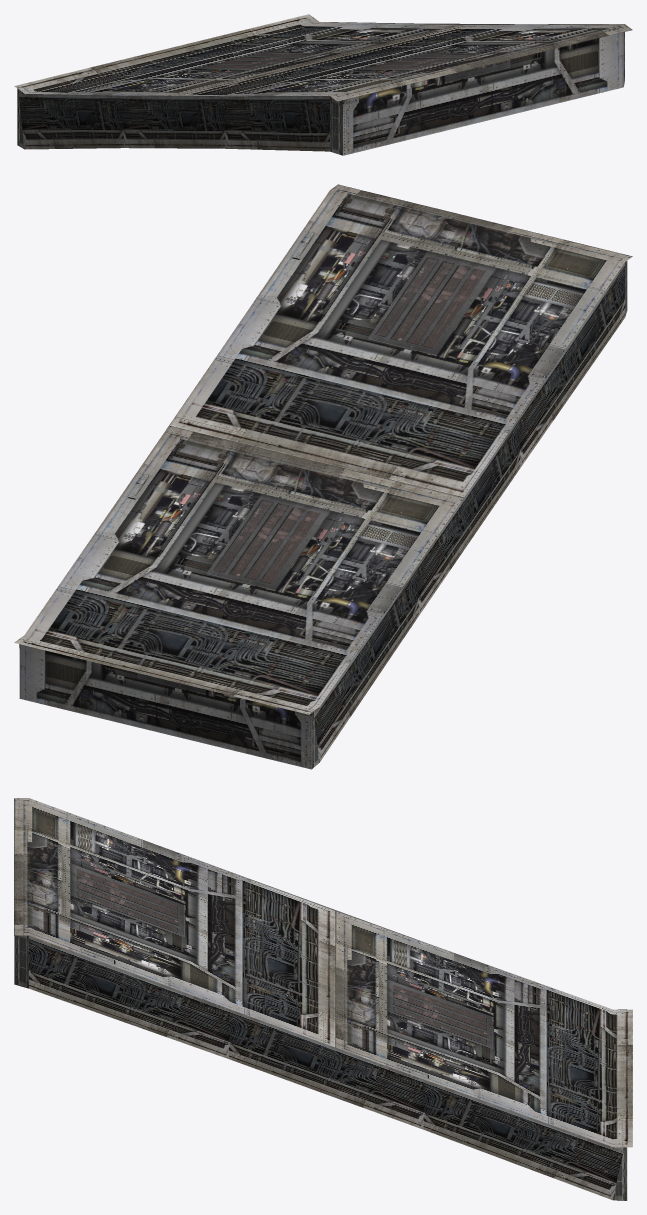
Rendered from ARC_CeilingCorridorA_RAMP_5x10x4.FBX.
The picture shows the model from 3 angles, top to bottom: view 1: azimuth 30°, elevation 25°; view 2: azimuth 150°, elevation 25°; view 3: azimuth 270°, elevation 25°; orthographic projection. The views are drawn at different scales.
Parts seen in each view (by area): view 1: ARC_CeilingCorridorA_RAMP_5x10x4; view 2: ARC_CeilingCorridorA_RAMP_5x10x4; view 3: ARC_CeilingCorridorA_RAMP_5x10x4.
Part boxes in pixels (x1,y1,x2,y2): ARC_CeilingCorridorA_RAMP_5x10x4: [14, 14, 632, 155]; ARC_CeilingCorridorA_RAMP_5x10x4: [14, 184, 632, 769]; ARC_CeilingCorridorA_RAMP_5x10x4: [14, 798, 632, 1200].
Bounding box in the file's own units: 558 × 504 × 1061.
